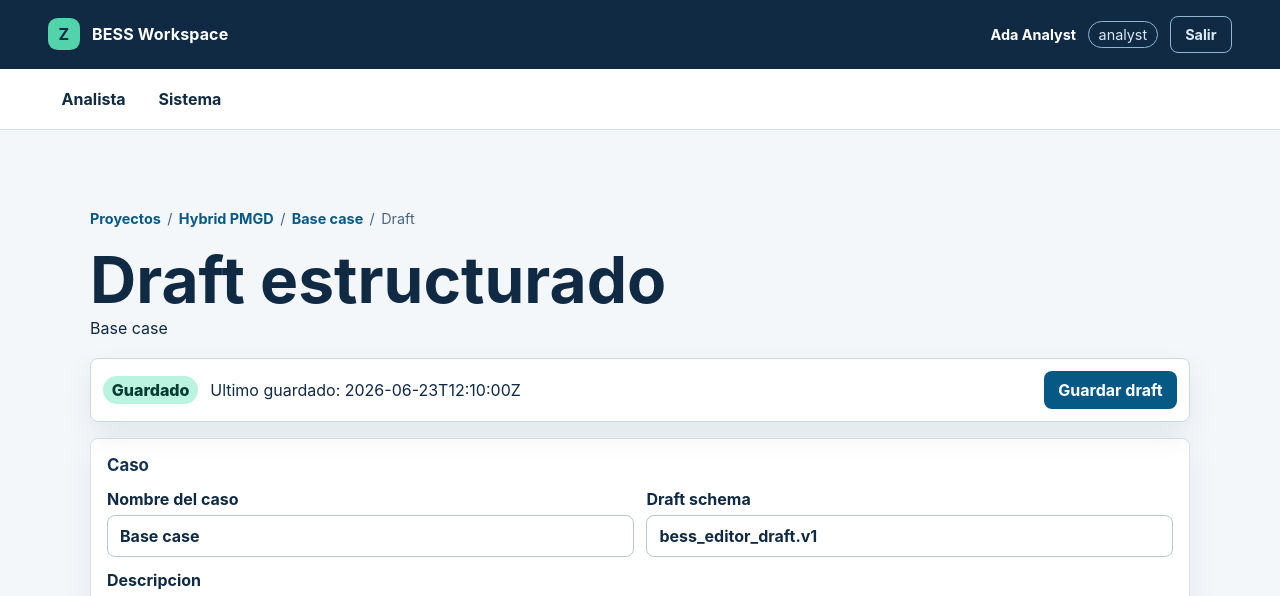
Test: application shell › lets analysts inspect, validate, stale, and promote a generated system_case once
Expected: the heading "Draft estructurado" is shown, [90,241,666,318]
Replace the text in the field labelled "Nombre del caso" with "Summer case" at (370, 536), box [107,515,634,557]
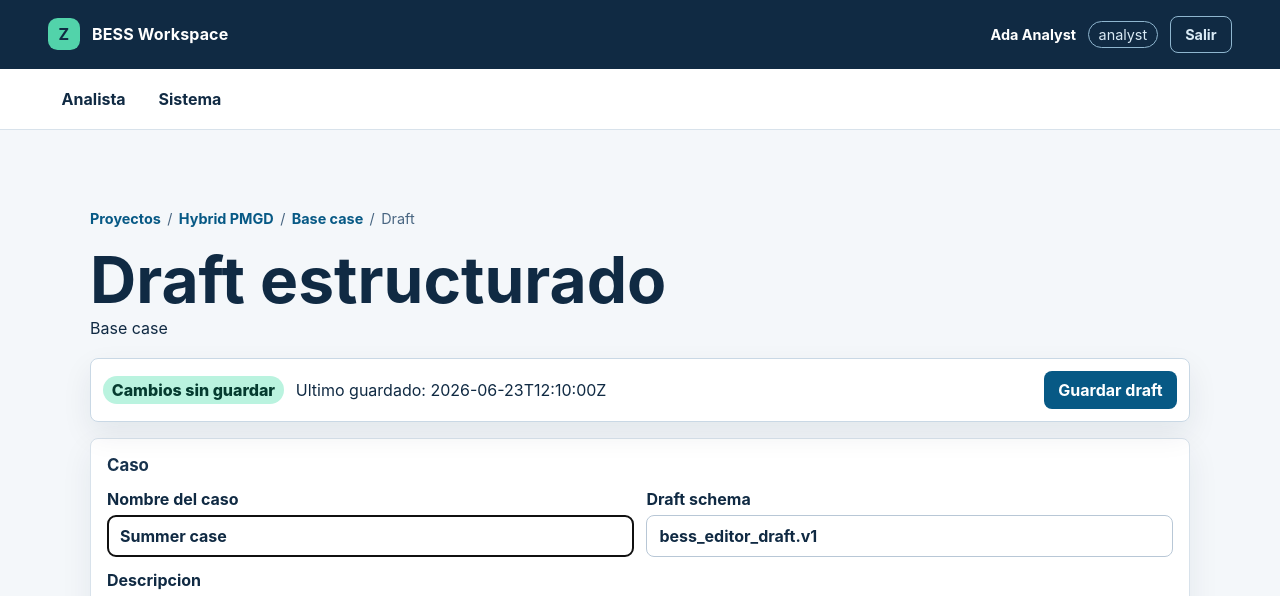
Click the button "Guardar draft" at (1110, 390), box [1044,371,1177,409]
(page scrolled)
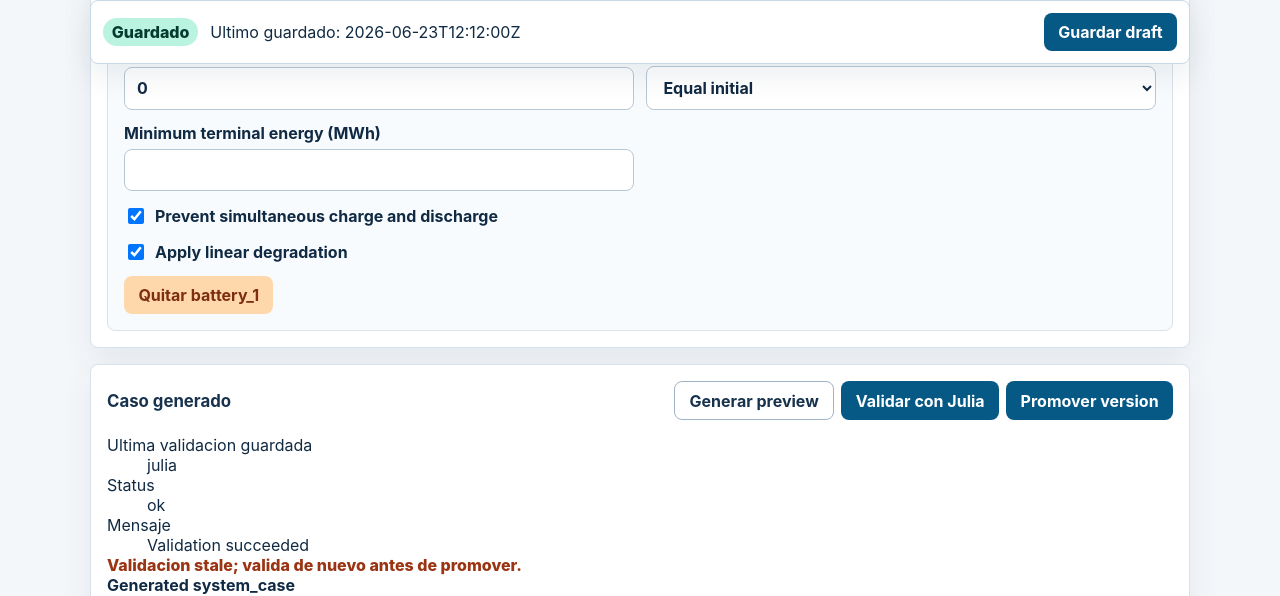
Expected: the text "Guardado" is shown, [103,18,198,46]
Click the button "Generar preview" at (754, 401), box [674,381,834,420]
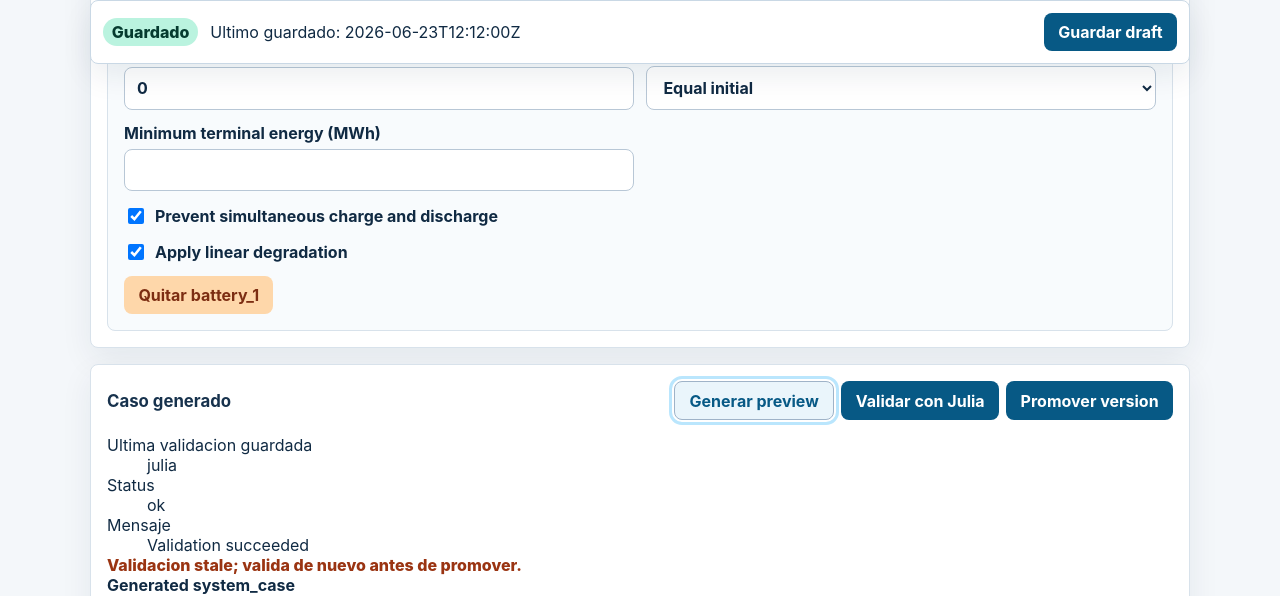
Click the button "Validar con Julia" at (920, 401), box [841,381,999,420]
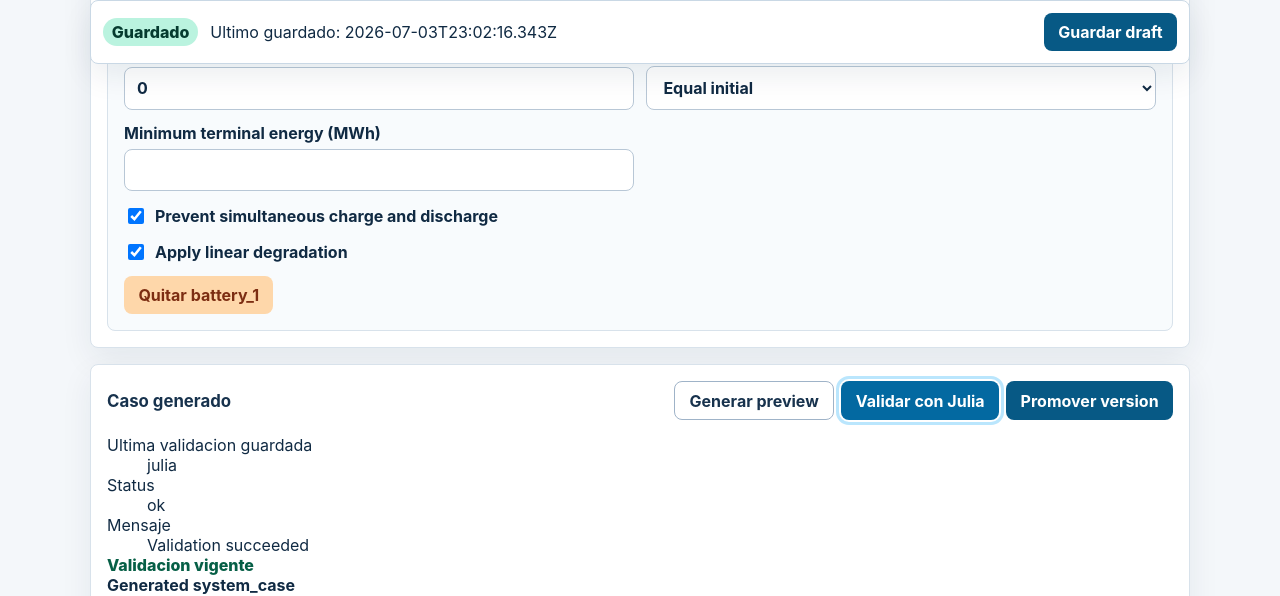
Expected: the text "Validacion vigente" is shown, [107,555,254,575]
Click the button "Promover version" at (1090, 401), box [1006,381,1173,420]
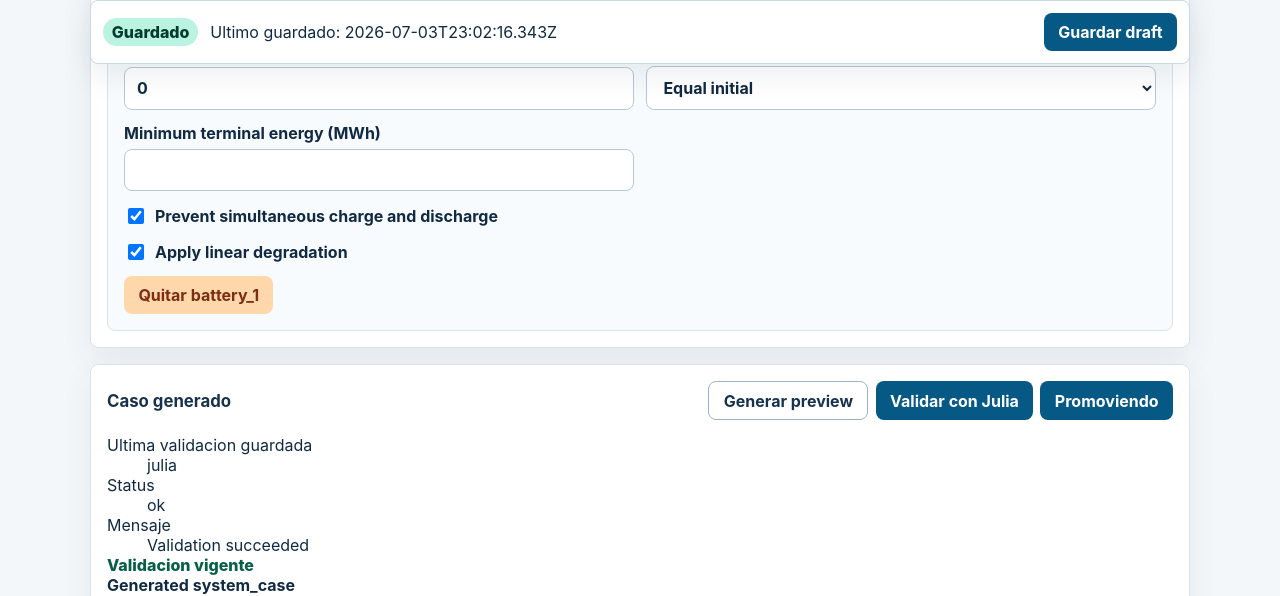
Click the button named "Promover version" at (1107, 401), box [1040,381,1173,420]
(page scrolled)
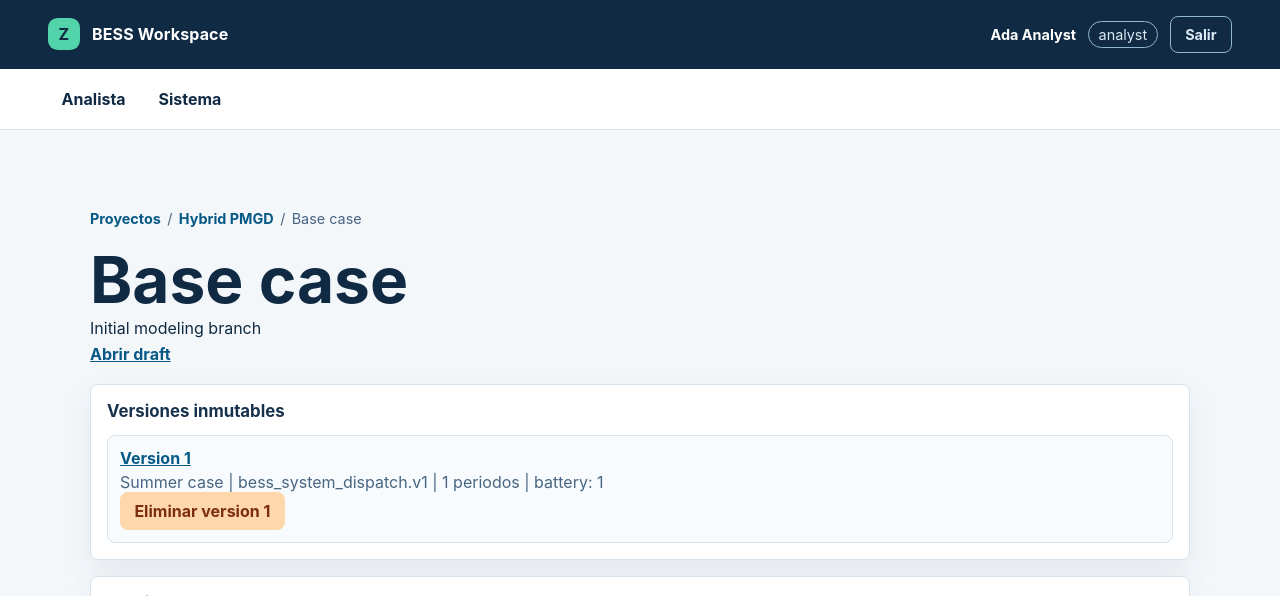
Expected: the heading "Base case" is shown, [90,241,408,318]
Expected: the link "Version 1" is shown, [120,448,191,468]
Expected: the text "Summer case" is shown, [120,472,224,492]
